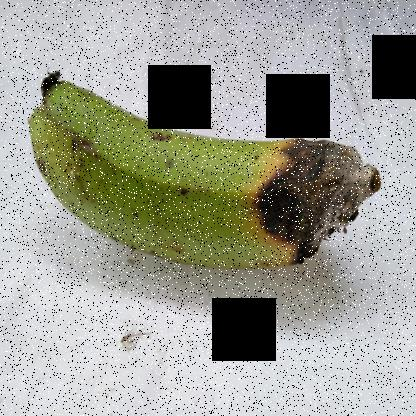rotten: (226, 116, 390, 292)
unripe: (14, 53, 259, 274)
